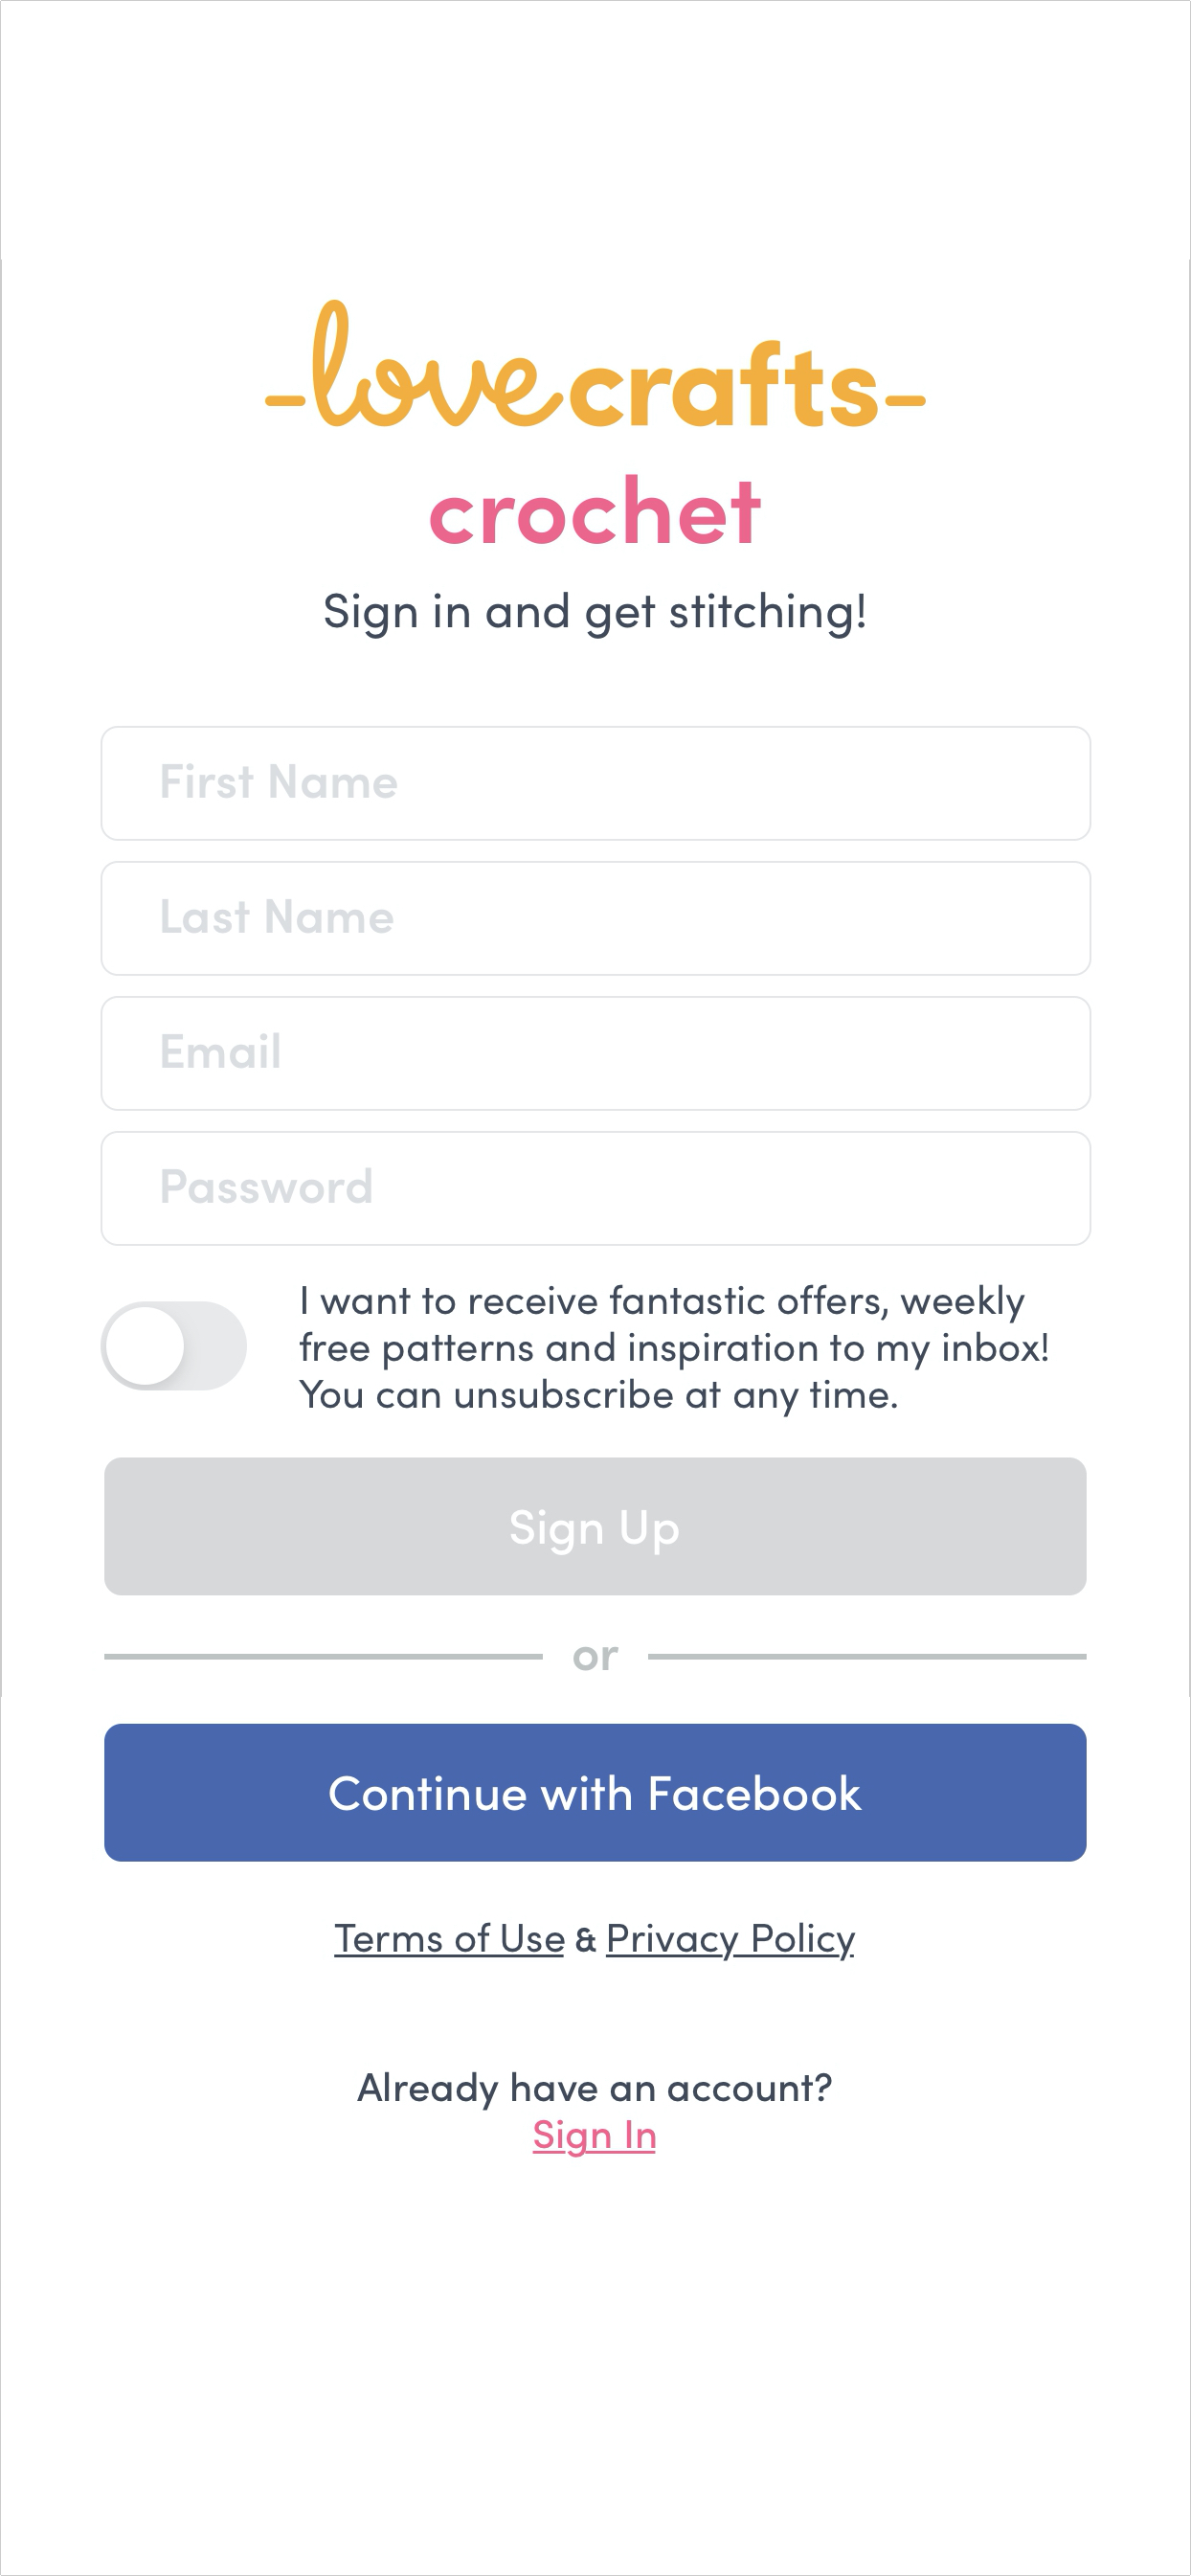EditText: (100, 1130, 1091, 1245), (100, 996, 1091, 1111), (100, 861, 1091, 976), (100, 726, 1091, 841)
Image: (264, 299, 927, 429)
Switch: (100, 1301, 248, 1390)
Text: (299, 1285, 1048, 1418), (325, 591, 864, 639), (429, 475, 761, 545), (333, 1922, 856, 1962), (356, 2072, 831, 2111), (161, 764, 398, 798), (161, 899, 394, 933), (161, 1168, 371, 1204), (532, 2118, 655, 2157), (161, 1032, 281, 1069), (573, 1646, 618, 1671)
TextButton: (105, 1723, 1086, 1861), (105, 1457, 1086, 1595)
